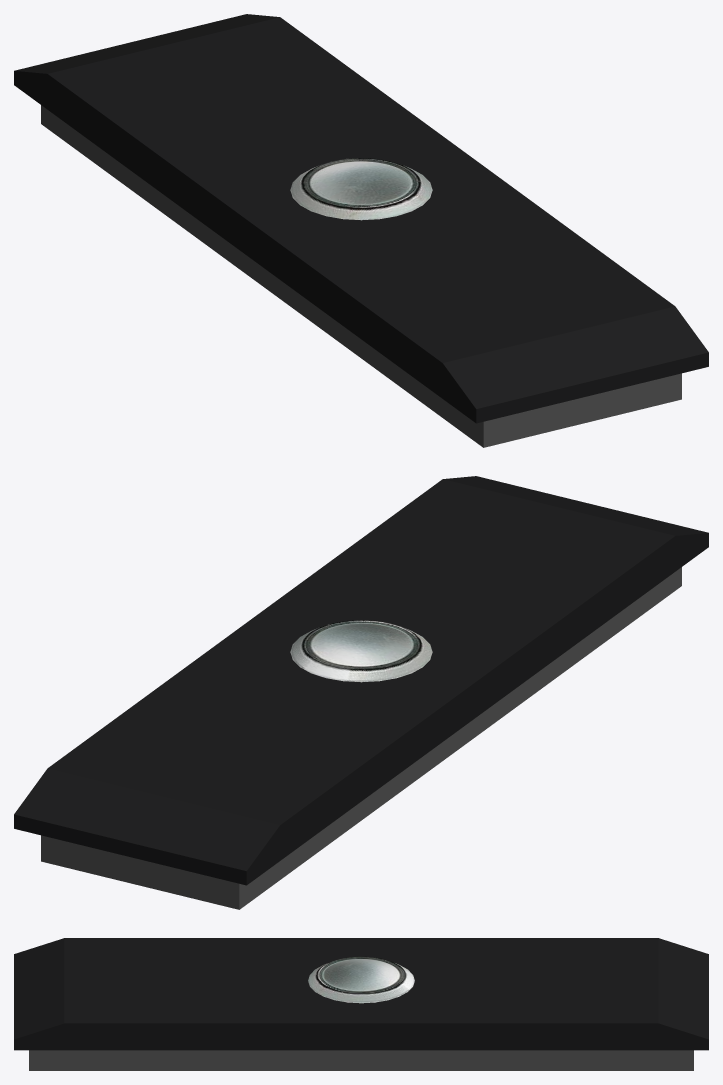
Rendered from button3.dae.
3 renders of one model, top to bottom at view 1: azimuth 30°, elevation 25°; view 2: azimuth 150°, elevation 25°; view 3: azimuth 270°, elevation 25°, orthographic. The views are drawn at different scales.
Parts seen in each view (by area): view 1: SketchUp (×4); view 2: SketchUp (×4); view 3: SketchUp (×4).
Part boxes in pixels (x1,y1,x2,y2): SketchUp (×4): [14, 14, 708, 447]; SketchUp (×4): [14, 476, 708, 909]; SketchUp (×4): [14, 938, 708, 1070].
Bounding box in the file's own units: 1.34 × 4.61 × 0.468.
3 materials, 1 textured.
